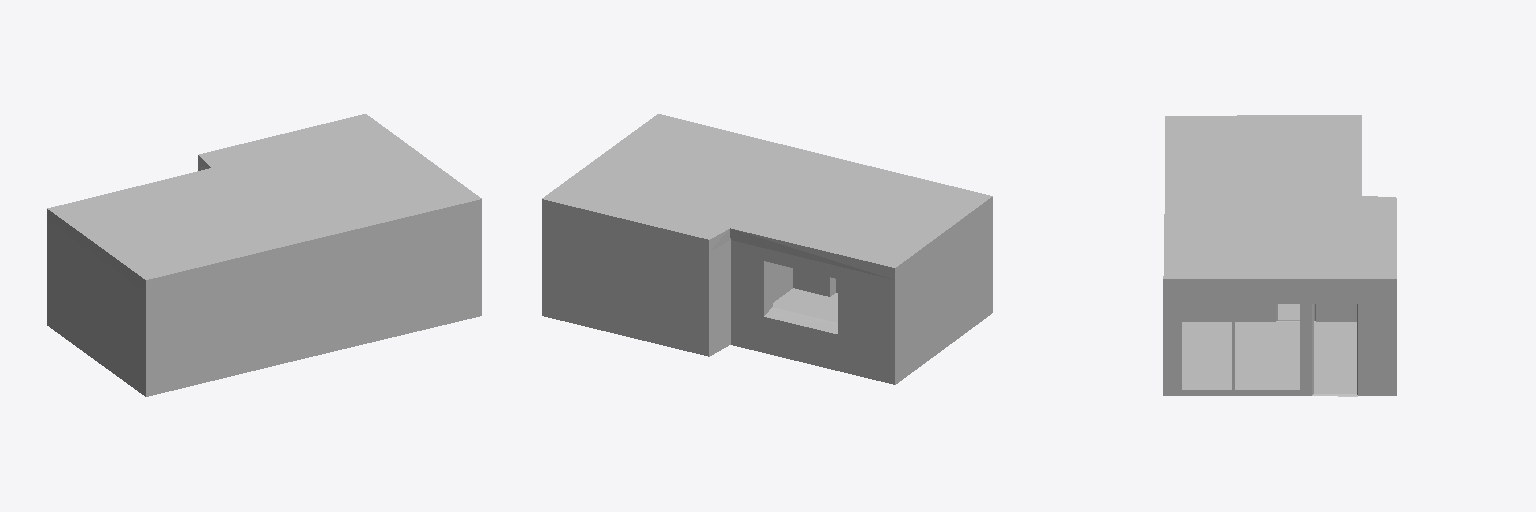
The model's file is wall2.obj.
3 renders of one model, left to right at view 1: azimuth 30°, elevation 25°; view 2: azimuth 150°, elevation 25°; view 3: azimuth 270°, elevation 25°, orthographic.
Parts seen in each view (by area): view 1: window_mesh; view 2: window_mesh, floor_mesh; view 3: window_mesh, floor_mesh.
Boxes of the visible parts, x1=… form: window_mesh: x1=47, y1=114, x2=481, y2=396; window_mesh: x1=542, y1=114, x2=992, y2=384; floor_mesh: x1=773, y1=263, x2=837, y2=322; window_mesh: x1=1163, y1=115, x2=1396, y2=395; floor_mesh: x1=1182, y1=304, x2=1357, y2=396.
Bounding box in the file's own units: 834 × 279 × 501.